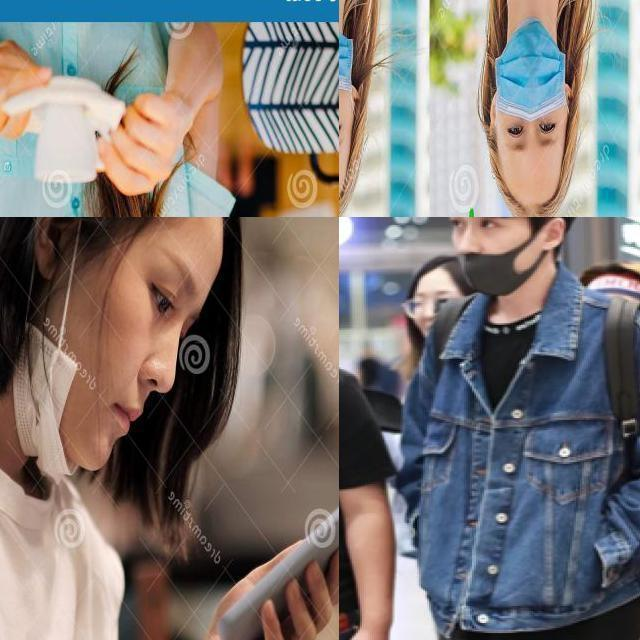hairnet: (5, 239, 181, 479), (452, 224, 568, 301)
mask: (485, 17, 578, 131)
no_apron: (88, 70, 204, 206)
